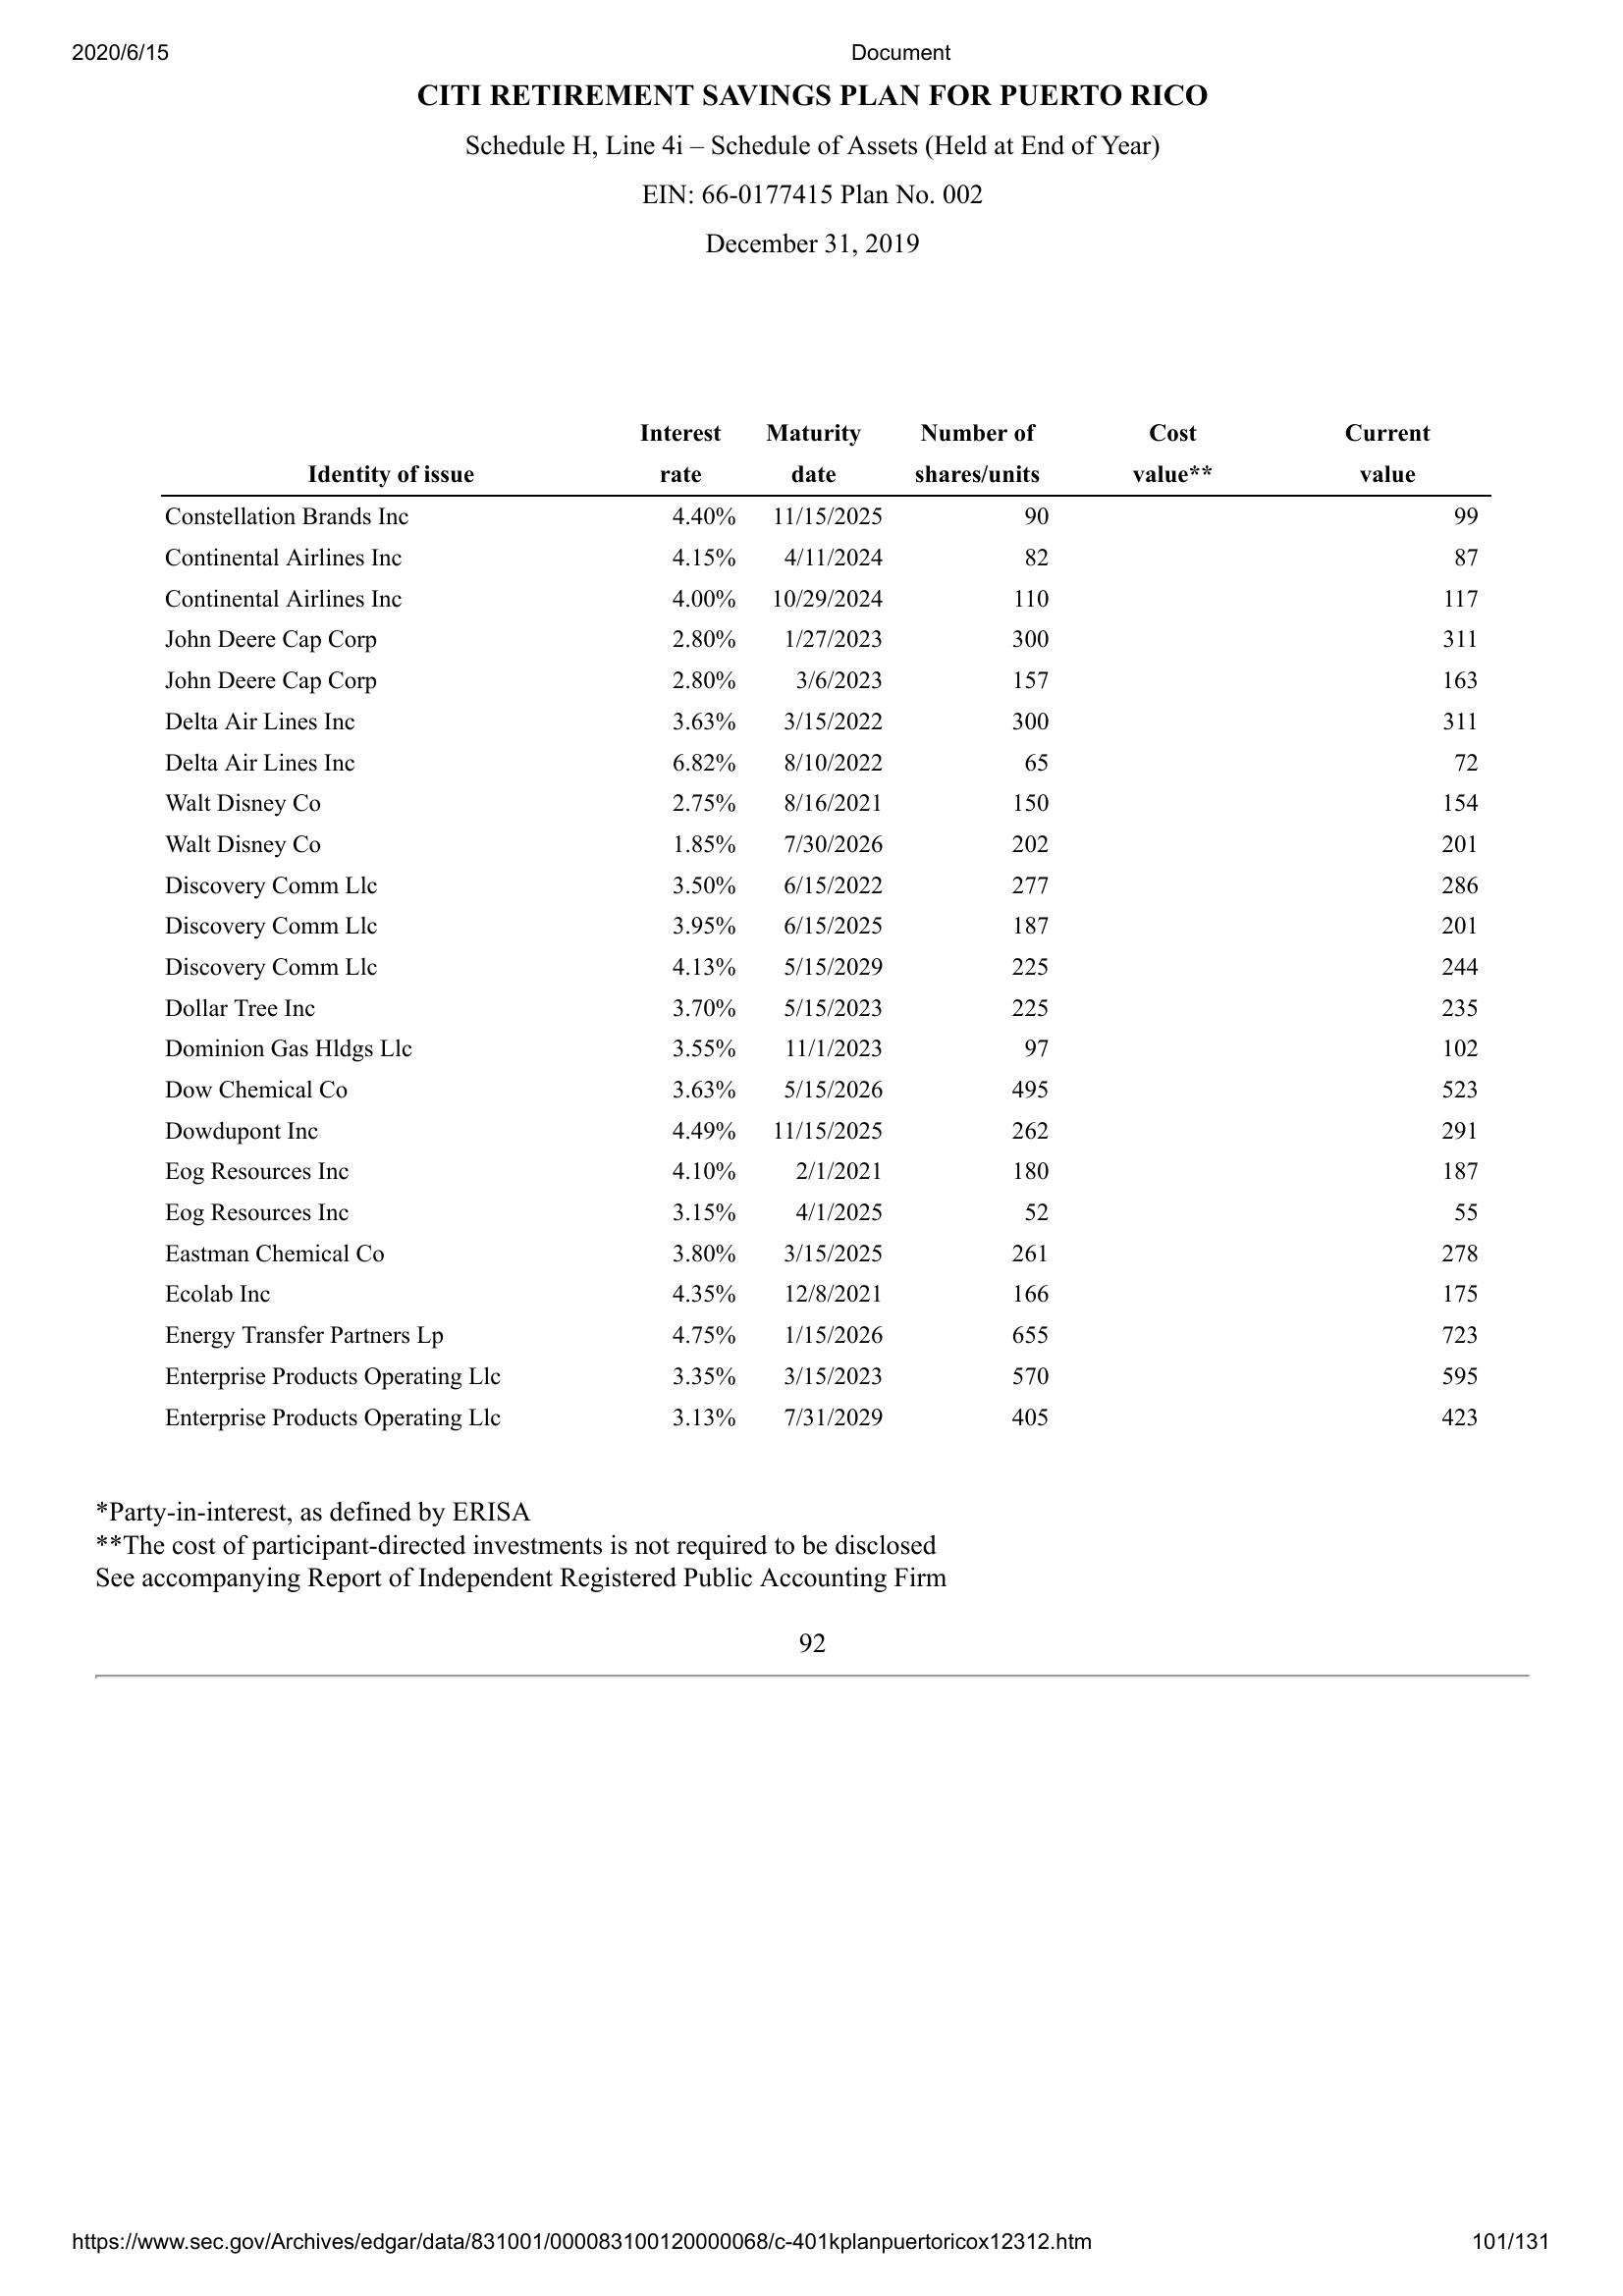table: (156, 418, 1495, 1441)
